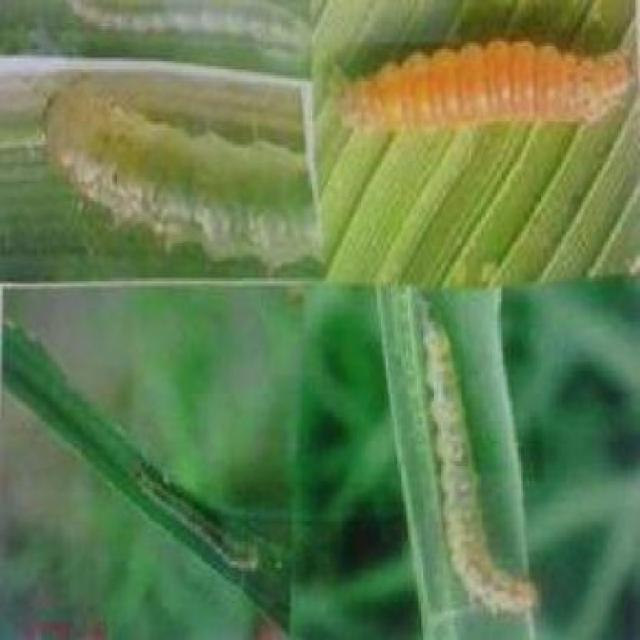leaf-folder: (394, 283, 552, 625), (40, 56, 294, 264), (332, 23, 640, 139), (114, 442, 271, 603), (37, 0, 289, 42)
